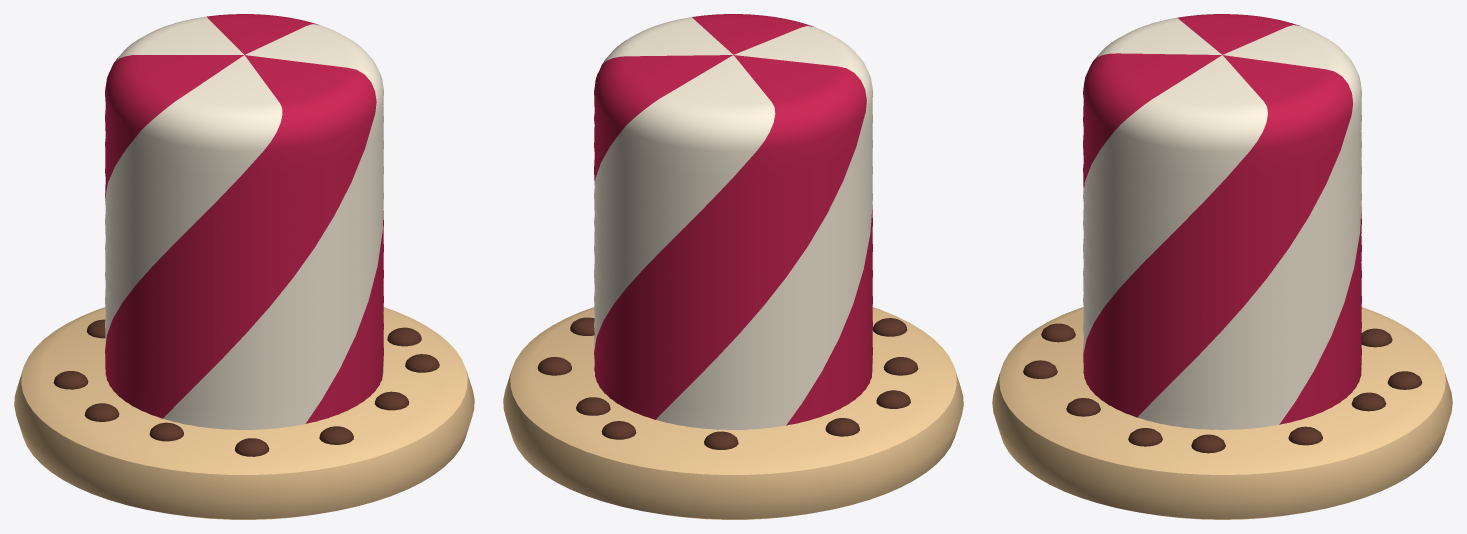
Rendered from windmill_hub.glb.
3 views of the same model, side by side, from view 1: azimuth 30°, elevation 25°; view 2: azimuth 150°, elevation 25°; view 3: azimuth 270°, elevation 25° (orthographic).
Parts seen in each view (by area): view 1: windmill_hub; view 2: windmill_hub; view 3: windmill_hub.
Boxes of the visible parts, x1,y1,x2,y2 form: windmill_hub: (14, 14, 474, 519); windmill_hub: (503, 14, 963, 519); windmill_hub: (992, 14, 1452, 519).
Bounding box in the file's own units: 1.32 × 1.2 × 1.32.
